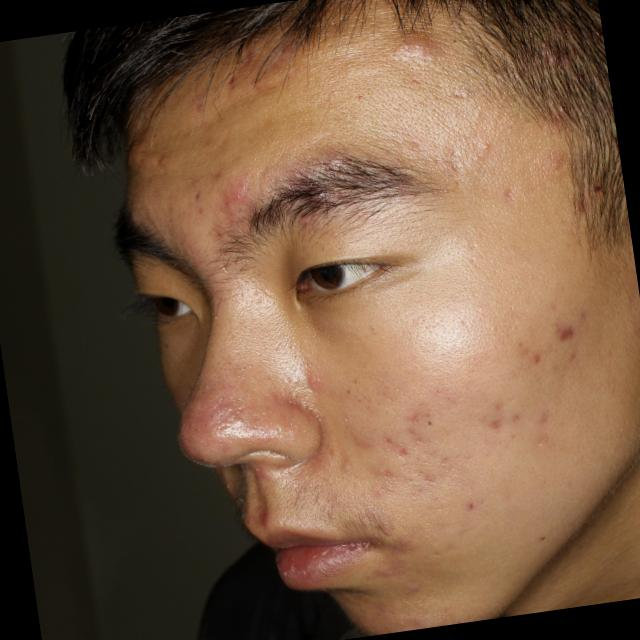blackhead: (428, 421, 432, 425), (242, 368, 246, 370), (402, 80, 405, 82), (358, 400, 361, 402), (250, 365, 252, 368), (226, 398, 229, 400), (204, 424, 207, 426), (386, 411, 388, 413), (374, 429, 376, 431), (478, 114, 480, 116), (454, 40, 456, 42), (239, 368, 241, 370), (228, 362, 230, 364), (218, 378, 220, 380), (221, 398, 223, 400), (222, 396, 224, 398), (193, 396, 195, 398), (202, 459, 204, 461), (300, 404, 302, 406), (349, 392, 351, 394), (364, 396, 366, 398), (542, 538, 544, 540), (456, 95, 458, 96), (212, 416, 212, 418), (290, 393, 290, 394)
nodule: (399, 34, 432, 60)
